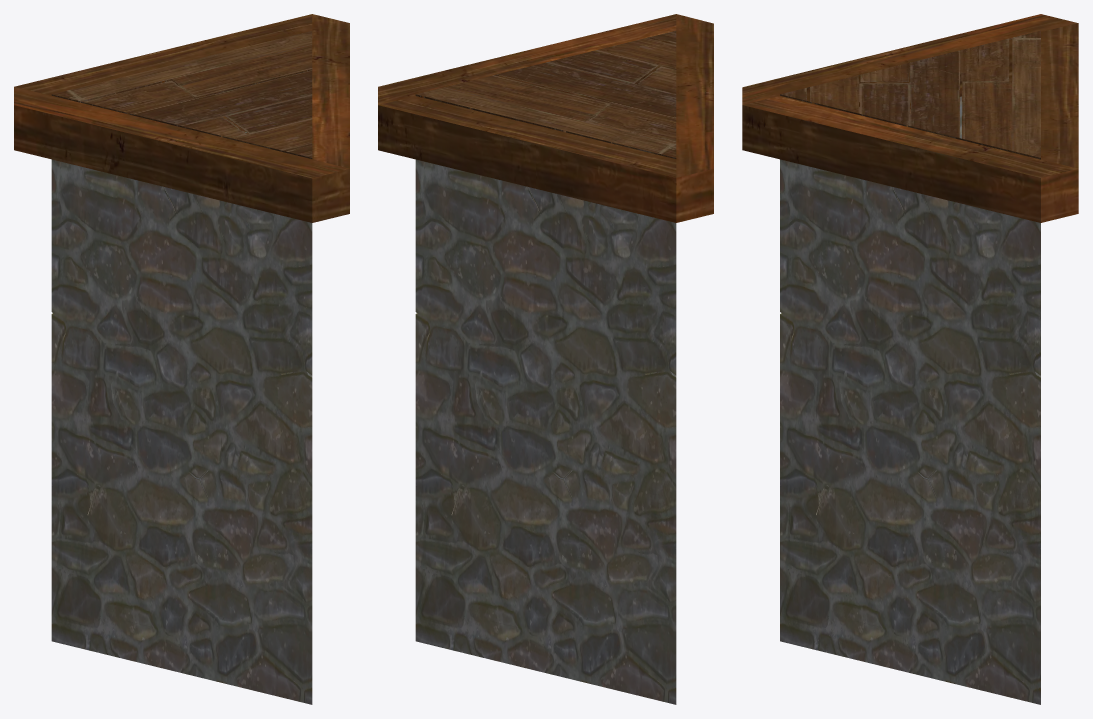
3 renders of one model, left to right at view 1: azimuth 30°, elevation 25°; view 2: azimuth 150°, elevation 25°; view 3: azimuth 270°, elevation 25°, orthographic.
Visible parts, largest first — view 1: SM_BB_T2_Foundation_Trangle_Med_LOD0; view 2: SM_BB_T2_Foundation_Trangle_Med_LOD0; view 3: SM_BB_T2_Foundation_Trangle_Med_LOD0.
Part boxes in pixels (left/top/right/bottom): SM_BB_T2_Foundation_Trangle_Med_LOD0: left=14, top=14, right=349, bottom=704; SM_BB_T2_Foundation_Trangle_Med_LOD0: left=378, top=14, right=713, bottom=704; SM_BB_T2_Foundation_Trangle_Med_LOD0: left=742, top=14, right=1078, bottom=704.
Bounding box in the file's own units: 1.93 × 3.01 × 1.67.
3 materials, 3 textured.
